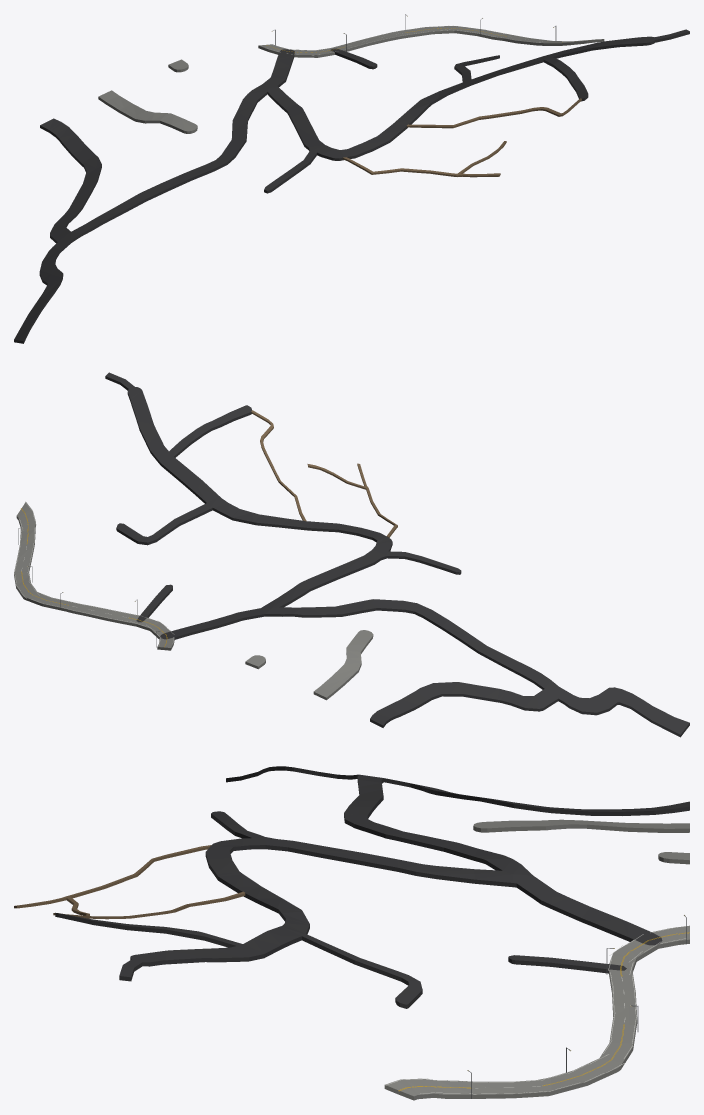
3 renders of one model, top to bottom at view 1: azimuth 30°, elevation 25°; view 2: azimuth 150°, elevation 25°; view 3: azimuth 270°, elevation 25°, orthographic. The views are drawn at different scales.
Size of the model in its own units: 294 by 83.87 by 175.
